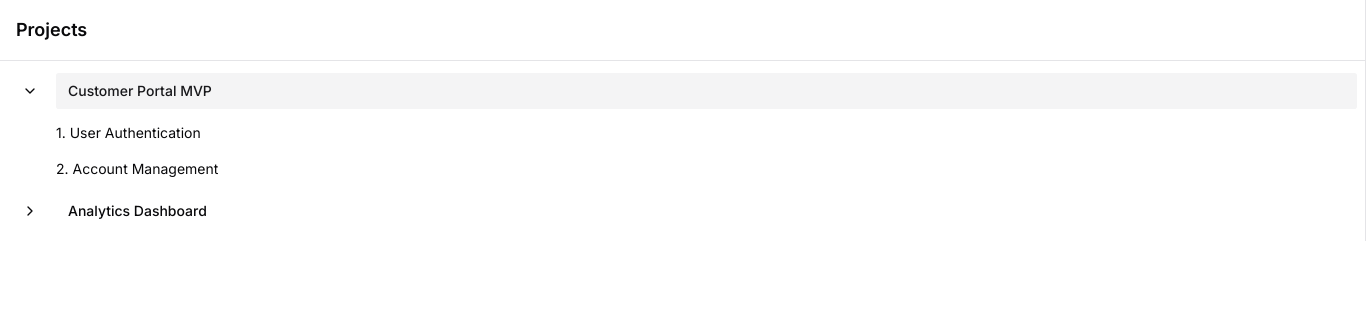
Test: AppSidebar › should collapse initiative when chevron is clicked again
What coordinates should you click on to do the following:
click the button named "Expand initiative"
I would click on:
 (30, 211)
Its box is [8,189,52,233].
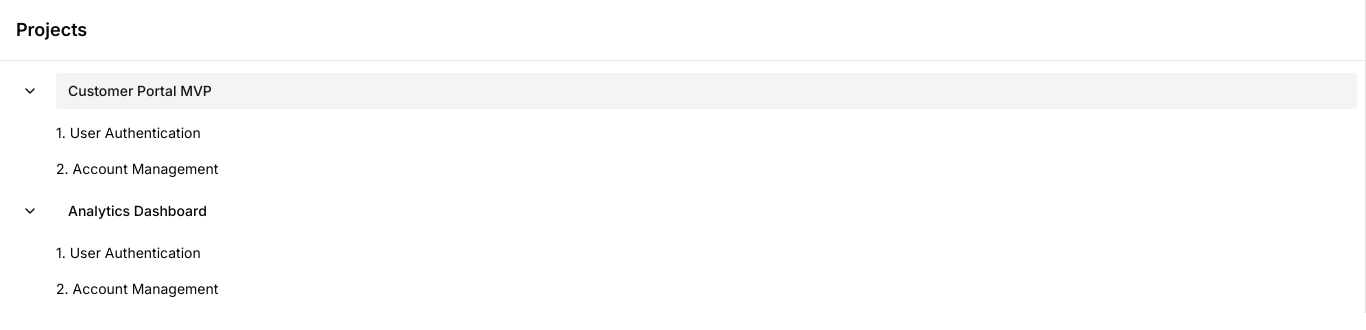
Expected: the text "1. User Authentication" below "Customer Portal MVP" is shown, [56,124,201,141]
// Collapse - click again
What coordinates should you click on to do the following:
click the button named "Expand initiative" next to "Analytics Dashboard"
I would click on:
 (30, 211)
Its box is [8,189,52,233].
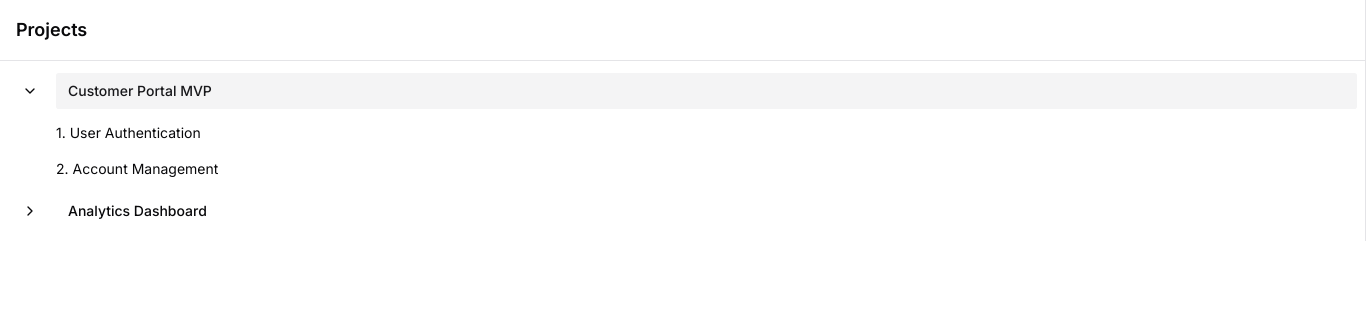
Expected: the button named "Expand initiative" is shown, [8,189,52,233]
